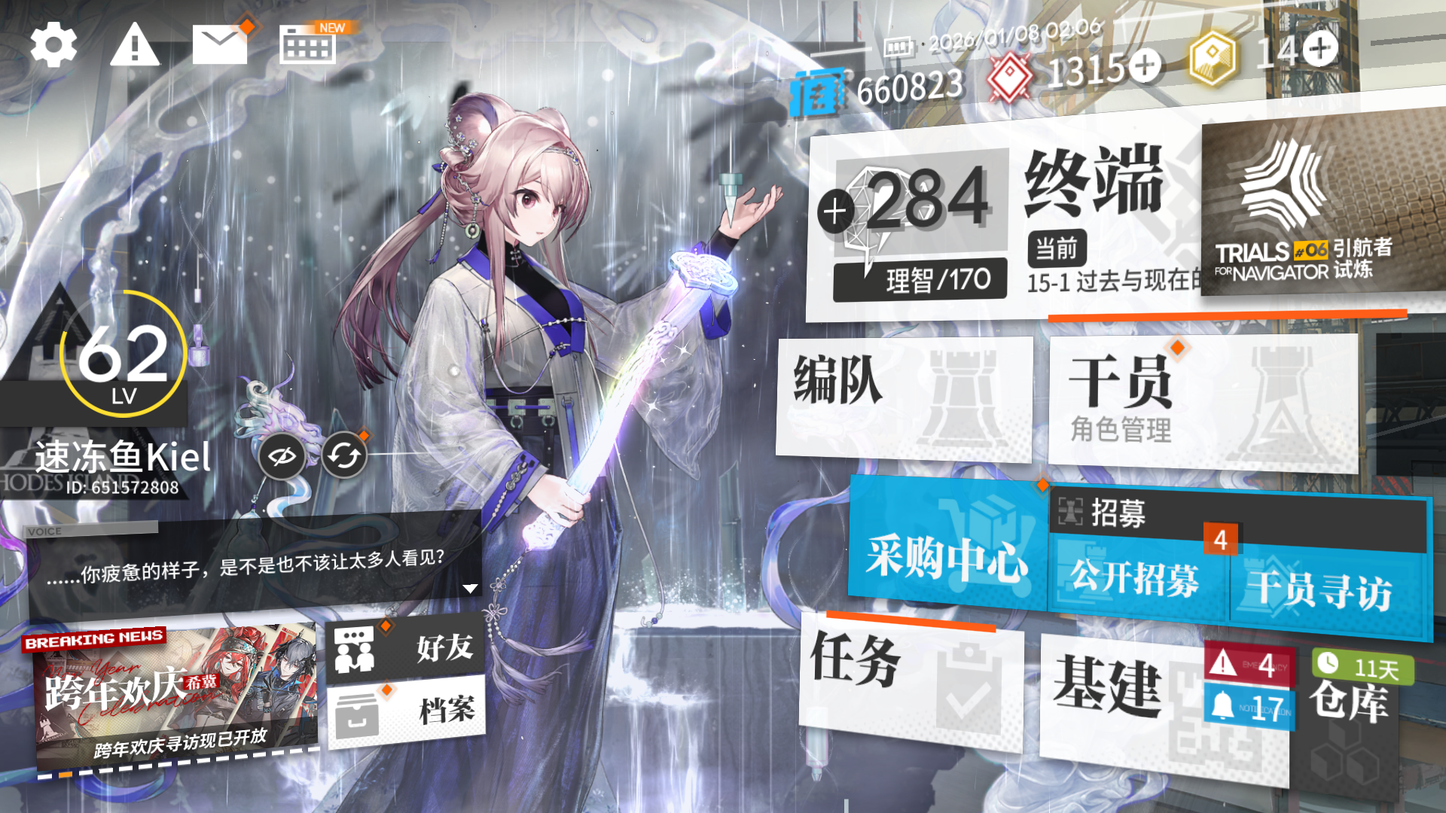home_button: (1021, 137, 1184, 236)
infrastructure_button: (1038, 627, 1289, 771)
